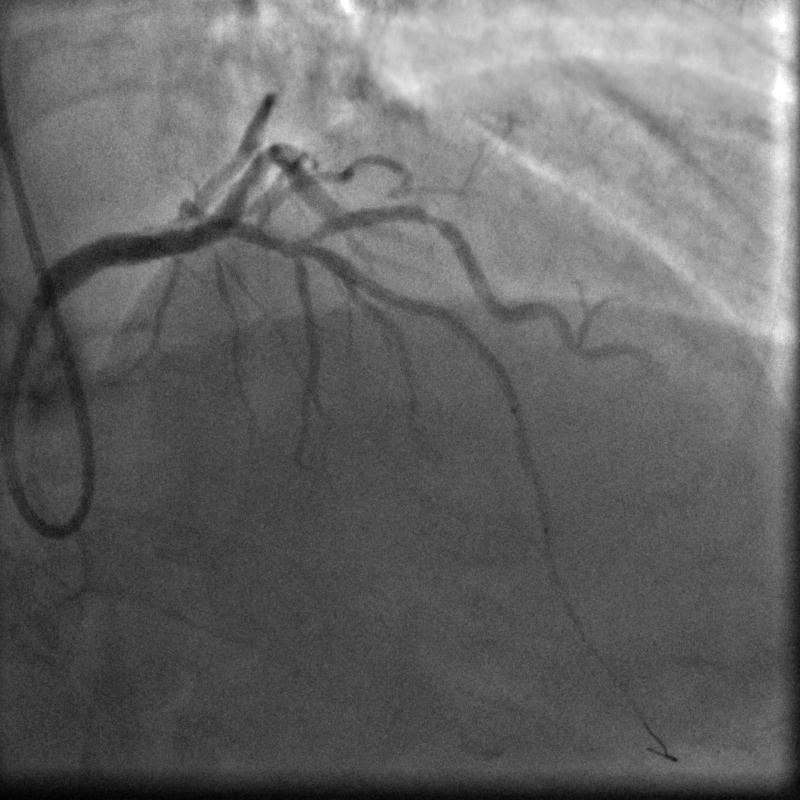Stenosis: (413, 200, 450, 234)
